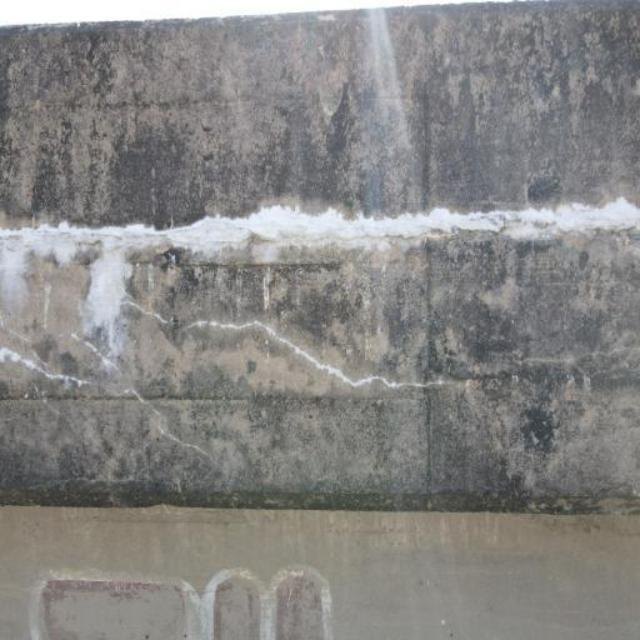D01: (2, 202, 533, 363), (6, 202, 639, 301), (70, 202, 639, 269), (0, 346, 85, 383)
